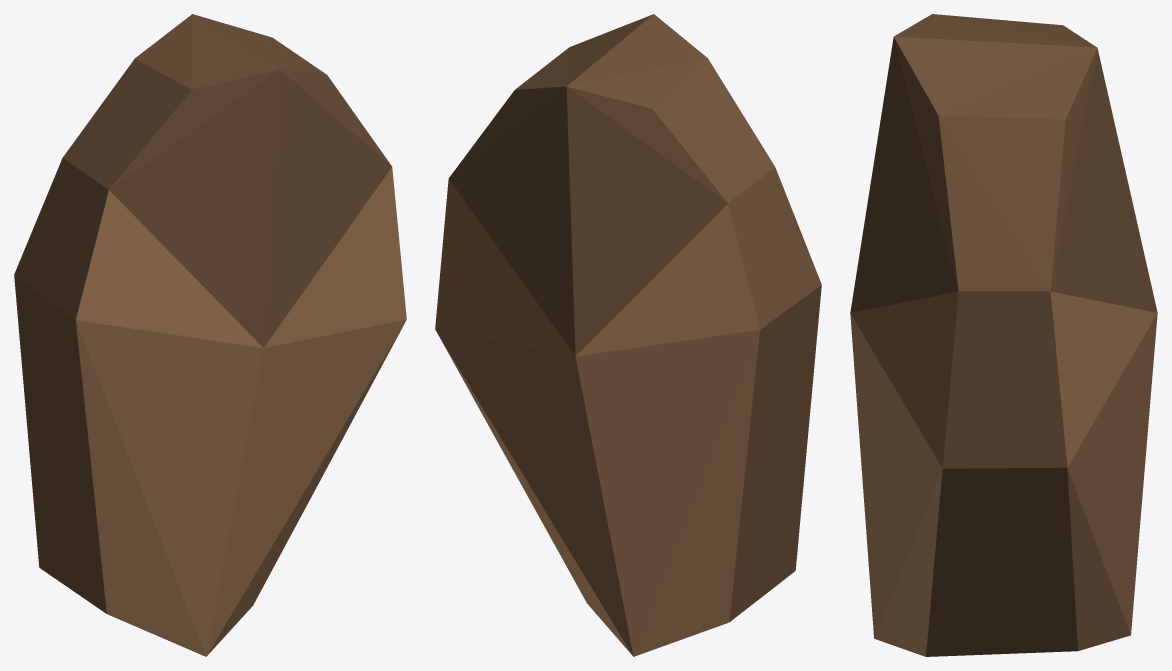
File: Potato_0.fbx
3 views of the same model, side by side, from view 1: azimuth 30°, elevation 25°; view 2: azimuth 150°, elevation 25°; view 3: azimuth 270°, elevation 25° (orthographic). The views are drawn at different scales.
Parts seen in each view (by area): view 1: Potato_0; view 2: Potato_0; view 3: Potato_0.
Part boxes in pixels (box(x1,y1,x2,y2)): Potato_0: box(14, 14, 406, 656); Potato_0: box(435, 14, 821, 656); Potato_0: box(850, 14, 1157, 656).
Bounding box in the file's own units: 9.92 × 15.86 × 6.81.
